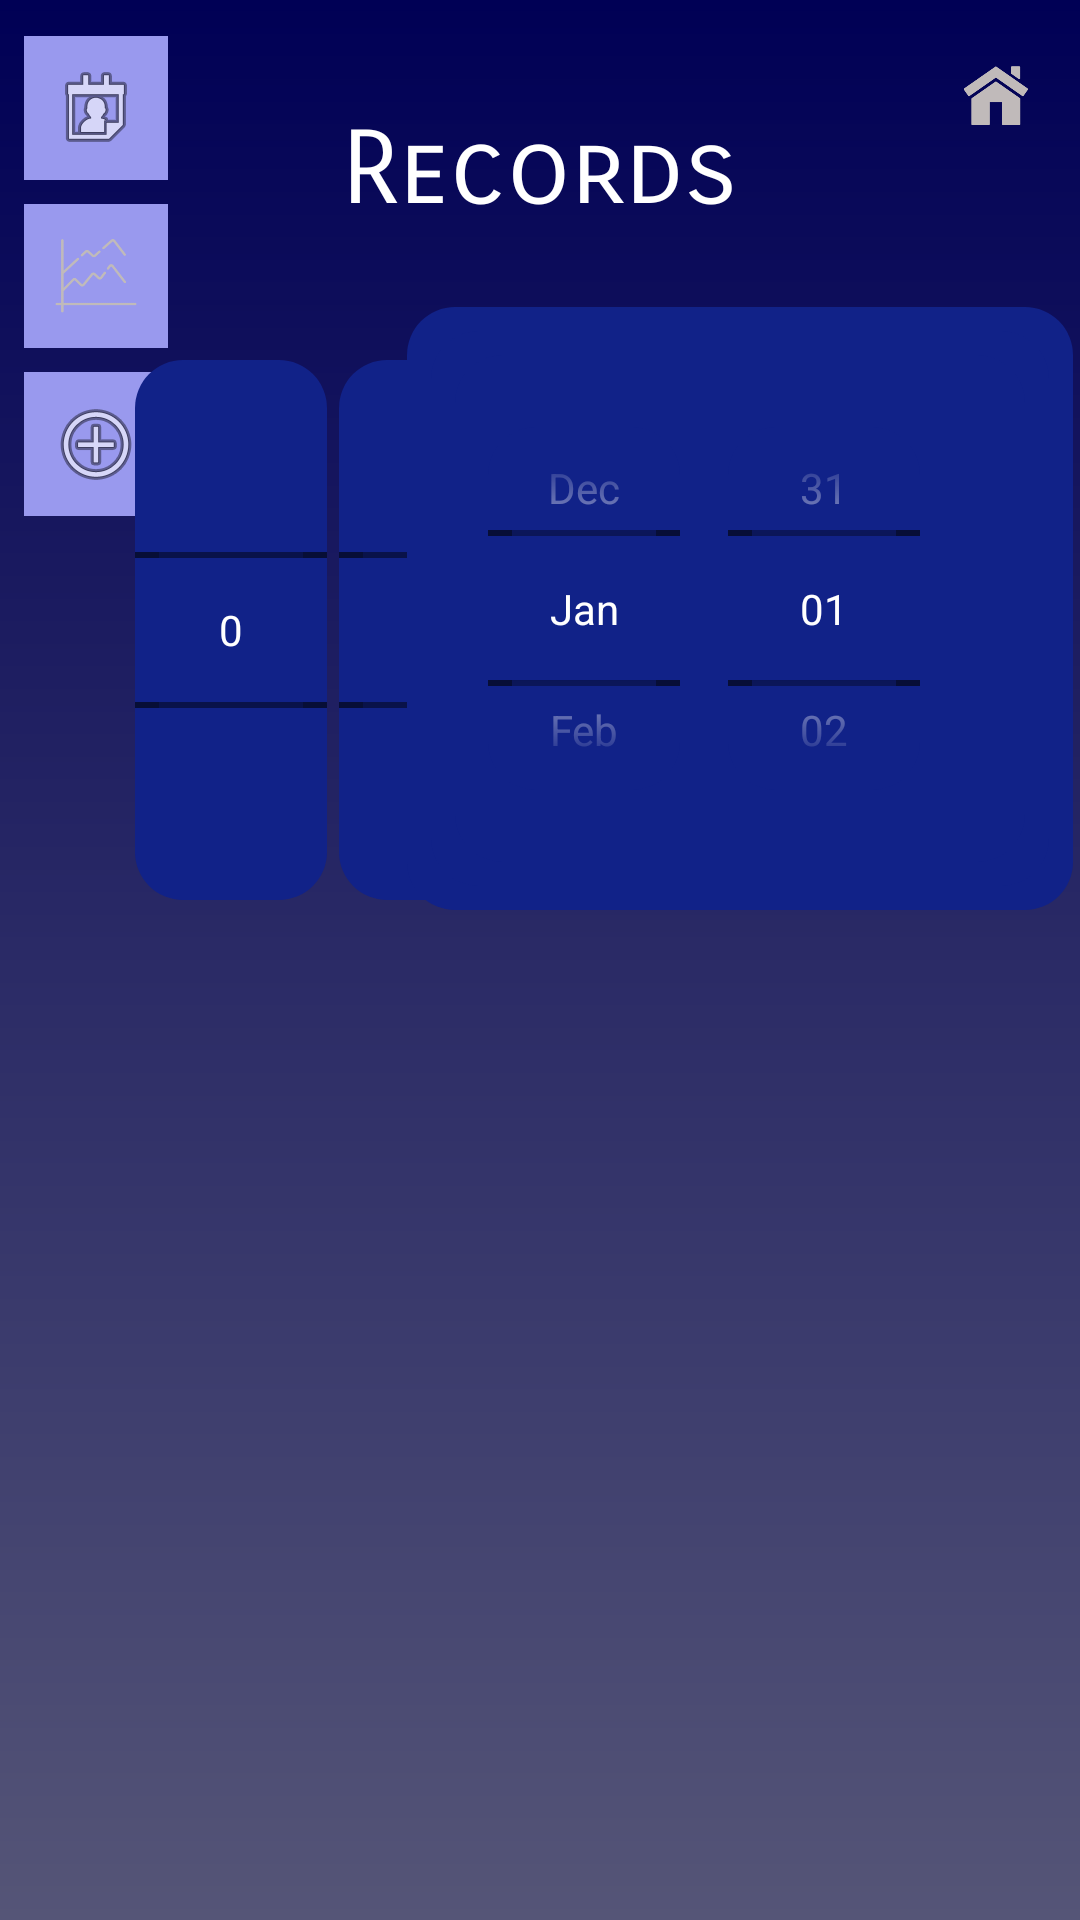

Point at icon controls on the screen. Image size 1080x1920, points as (x,y).
calendar: (96,108)
graph: (96,276)
home: (996,95)
